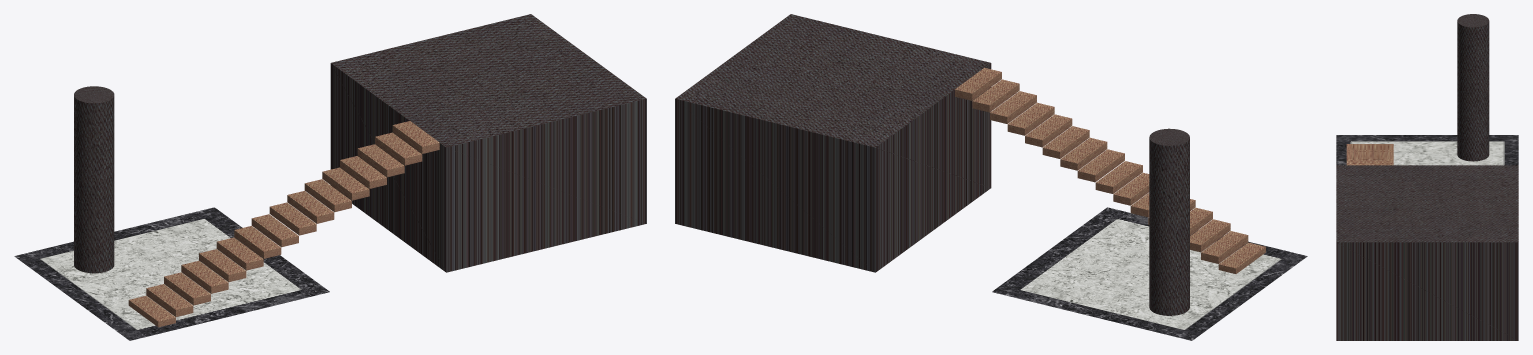
File: collisions.obj
The picture shows the model from 3 angles, left to right: view 1: azimuth 30°, elevation 25°; view 2: azimuth 150°, elevation 25°; view 3: azimuth 270°, elevation 25°; orthographic projection. The views are drawn at different scales.
Visible parts, largest first — view 1: Cylinder; view 2: Cylinder; view 3: Cylinder.
Part boxes in pixels (box(x1,y1,x2,y2)): Cylinder: box(14, 14, 646, 340); Cylinder: box(675, 14, 1307, 340); Cylinder: box(1336, 14, 1518, 340).
Size of the model in its own units: 29.42 by 9.73 by 11.41.
